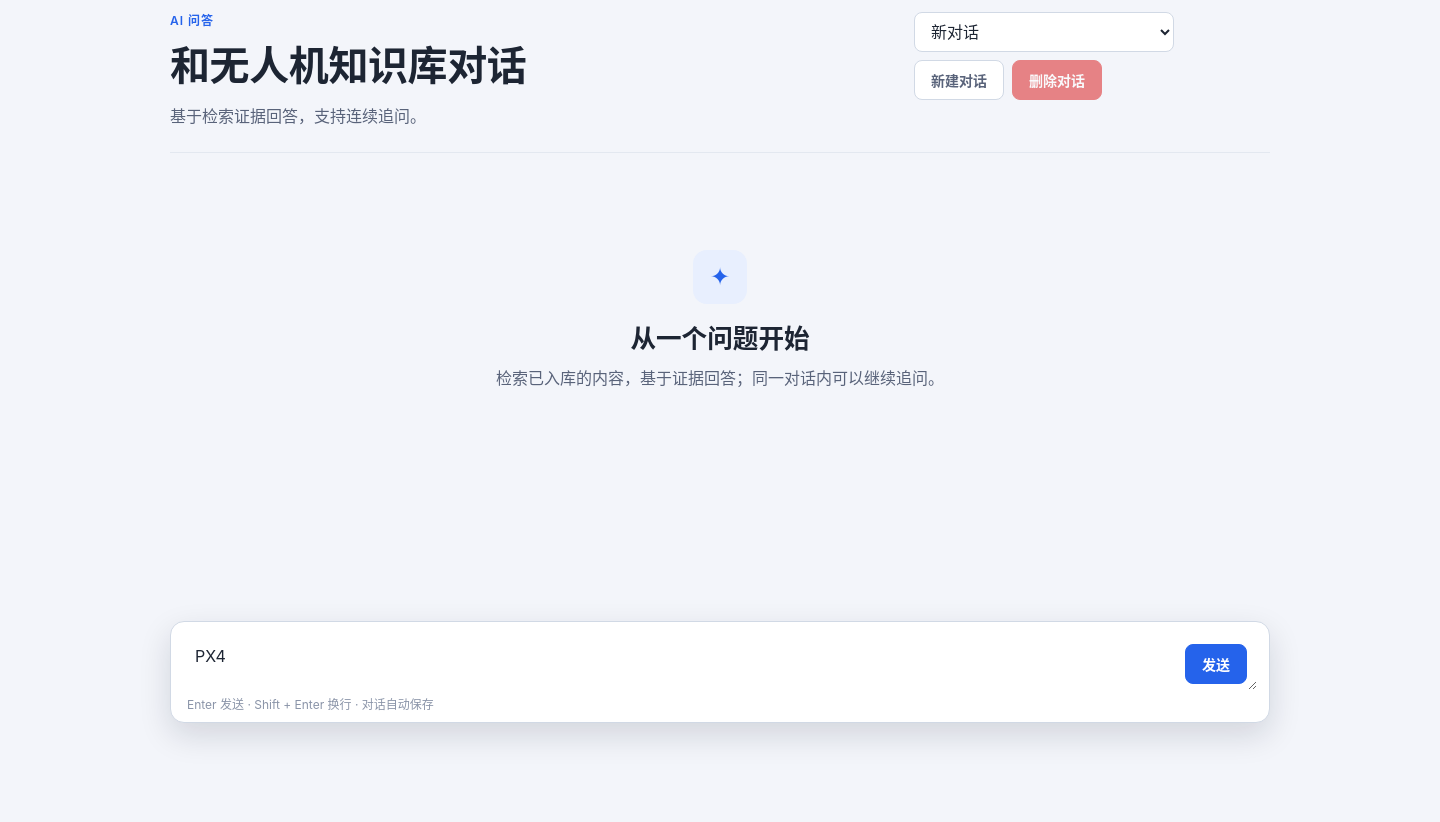
Scenario: AI chat streaming and sessions › replaces failed partial output with explicitly labeled excerpts
Click the button "发送".
click(1216, 664)  # box [1185, 644, 1247, 684]
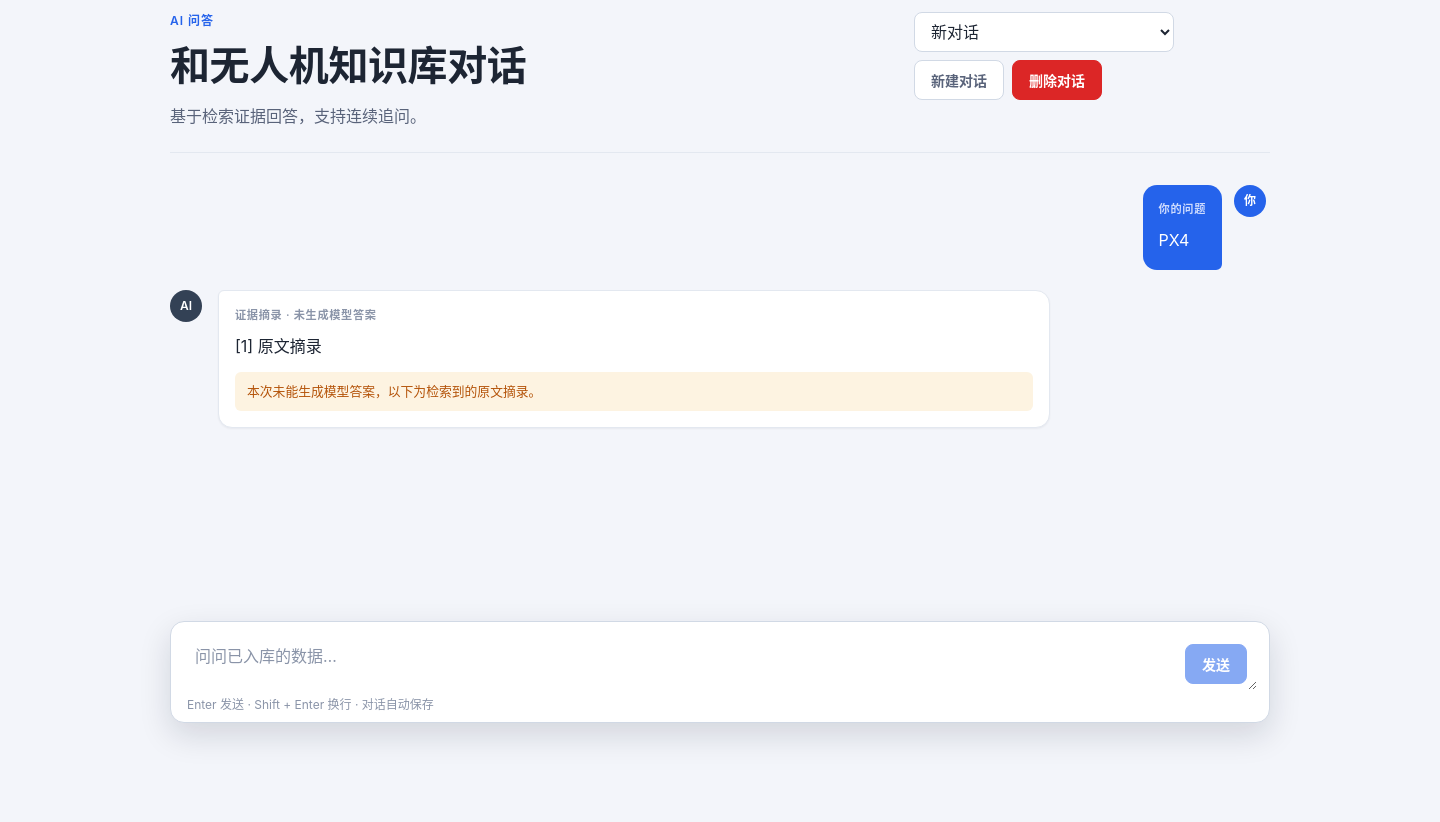
Expected: the text "证据摘录 · 未生成模型答案" is shown, [235, 308, 377, 322]
Expected: the text "[1] 原文摘录" is shown, [235, 336, 322, 356]
